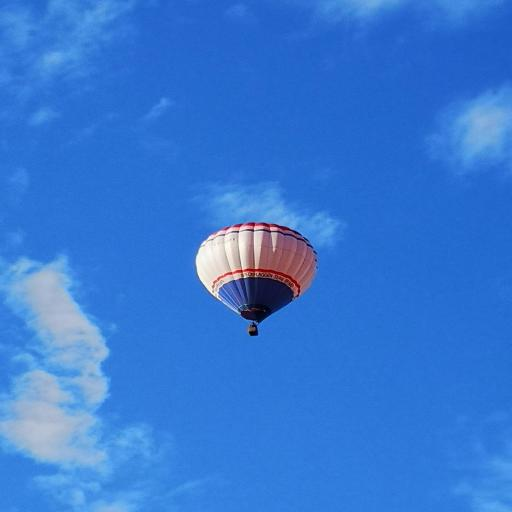hot air ballon: (194, 222, 319, 337)
